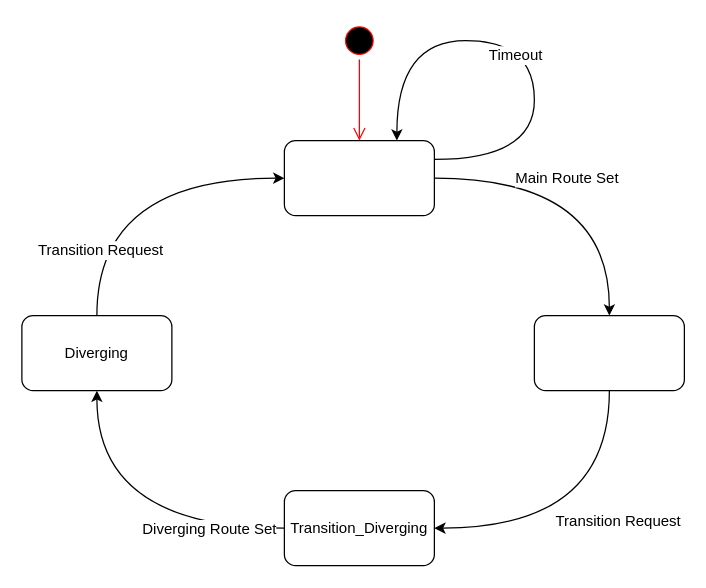
This 706x588 diagram has some shape labels left out. The shapes that lost their labels are listed below. From the top down, each one's centre as x and y in pixels, then its label:
At [358,177]: "Transition_Main".
At [608,352]: "Main".
